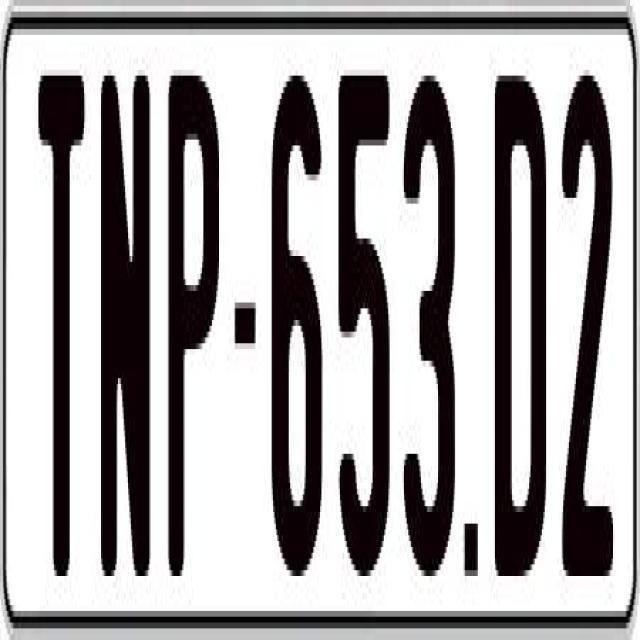2: (560, 58, 613, 594)
3: (402, 58, 453, 570)
5: (338, 64, 389, 570)
6: (272, 70, 328, 582)
D: (494, 75, 554, 588)
N: (101, 63, 158, 600)
P: (164, 64, 216, 582)
T: (36, 58, 86, 570)
